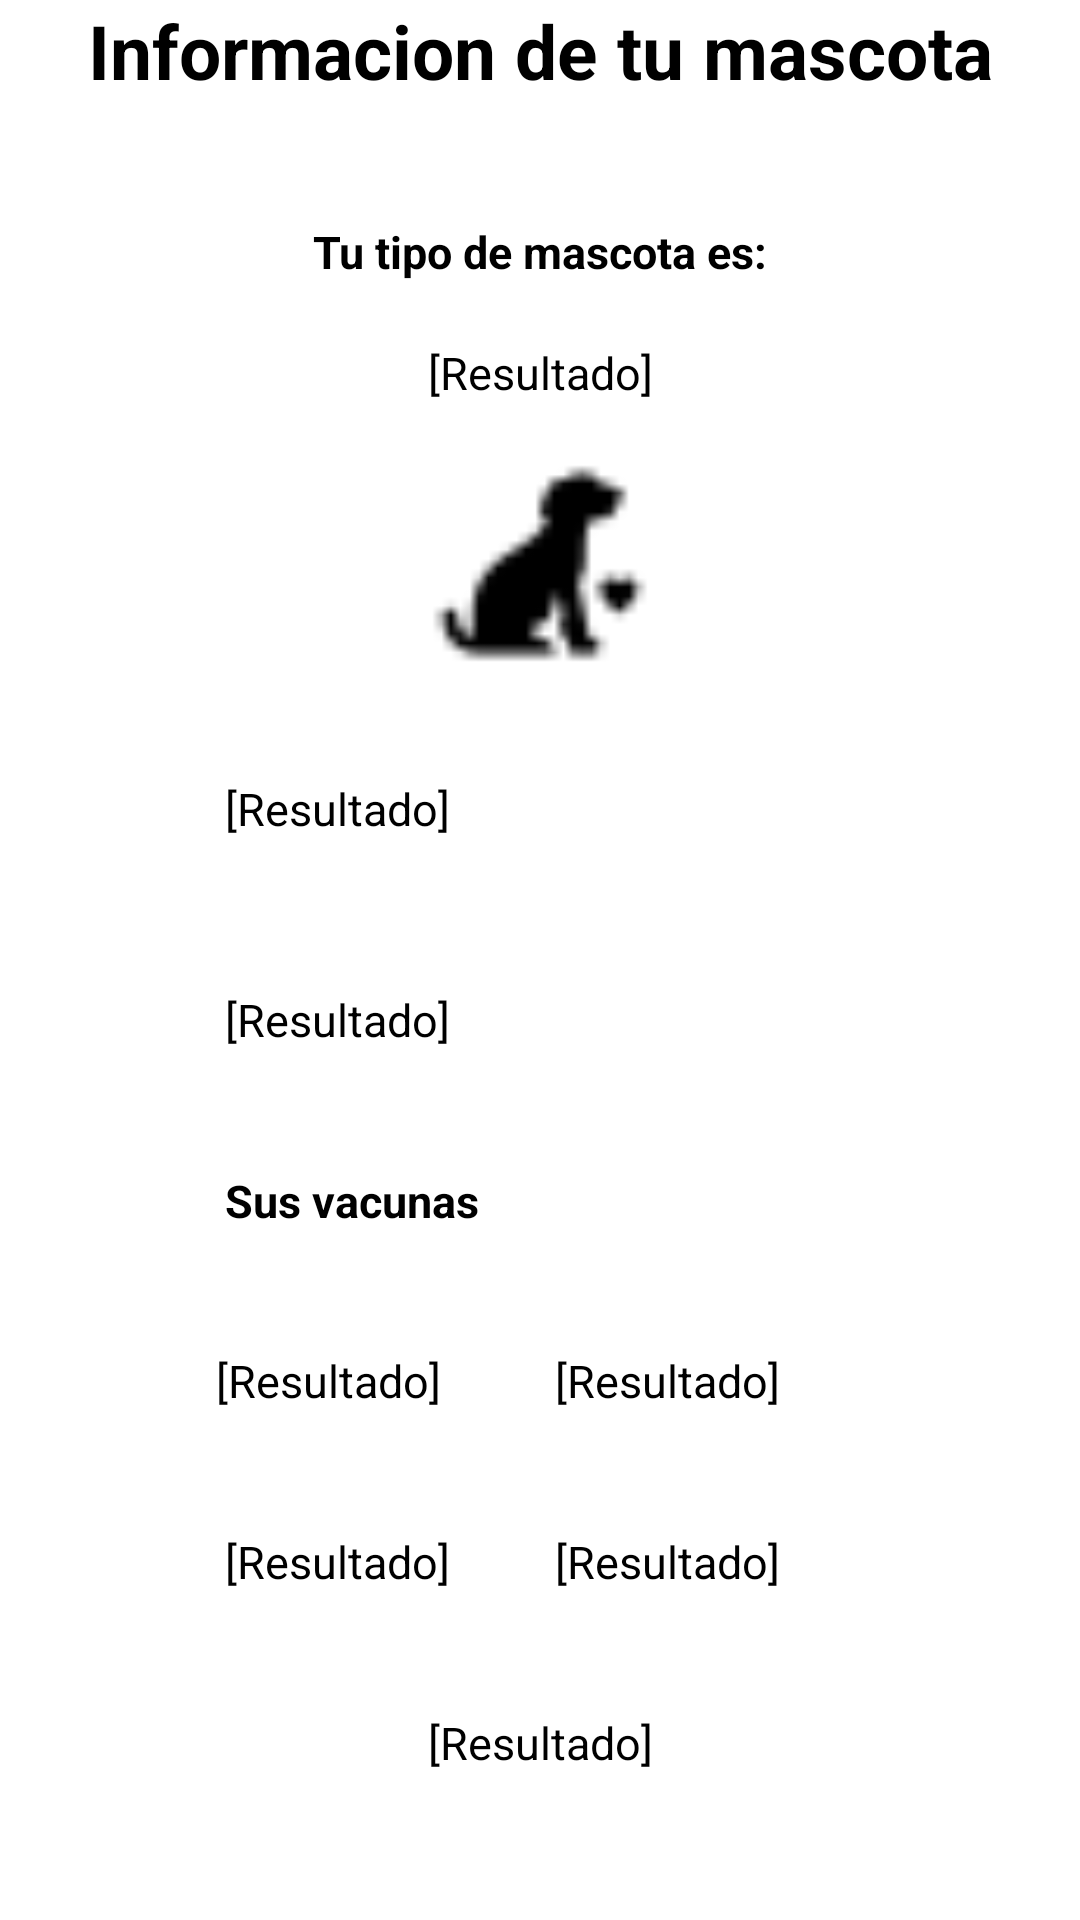

Icons on this 1080 × 1920 Android screen, each with its box as (x1,y1,x2,y2):
dog: (435,467,645,660)
